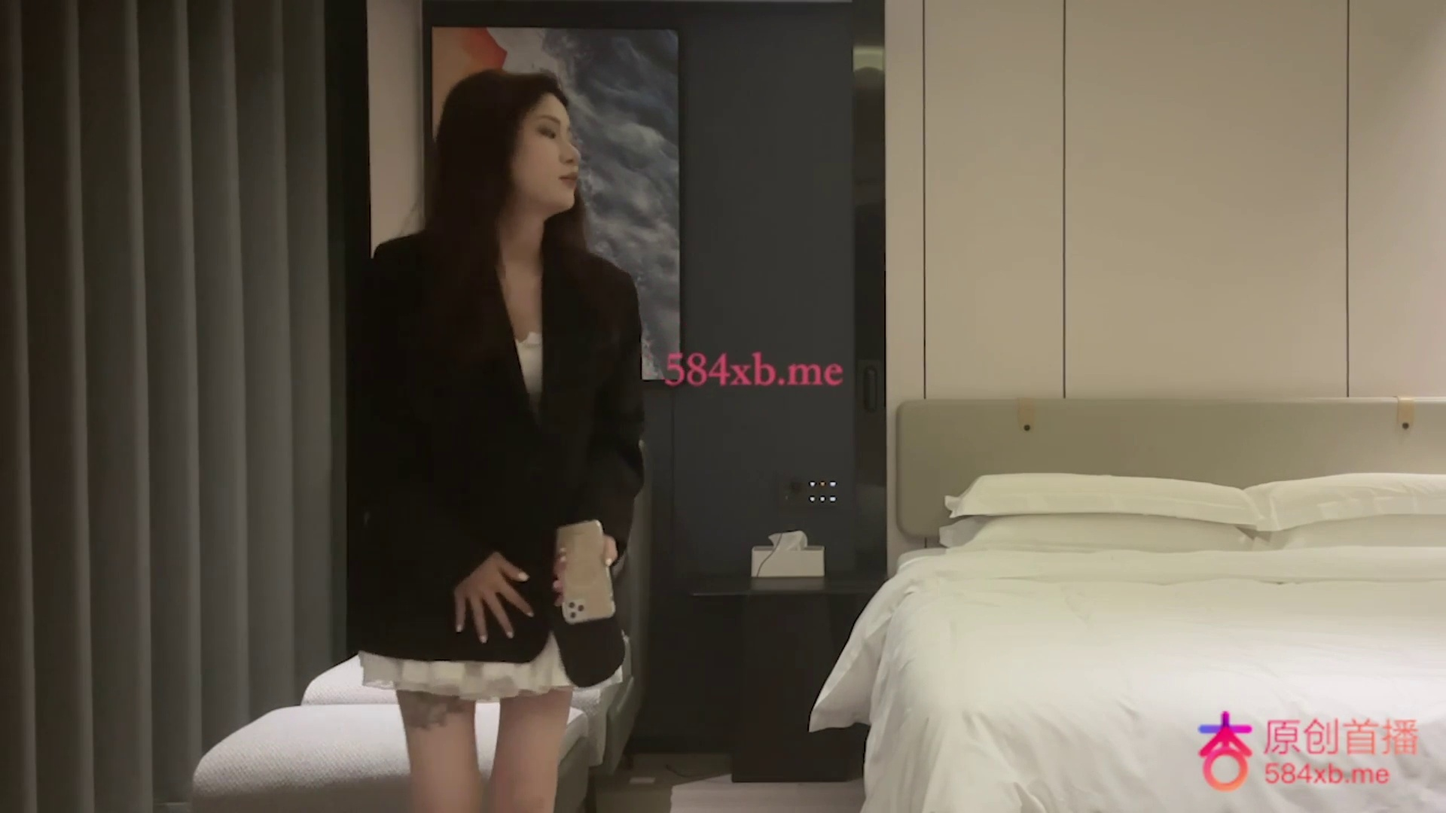stand: (344, 67, 645, 813)
